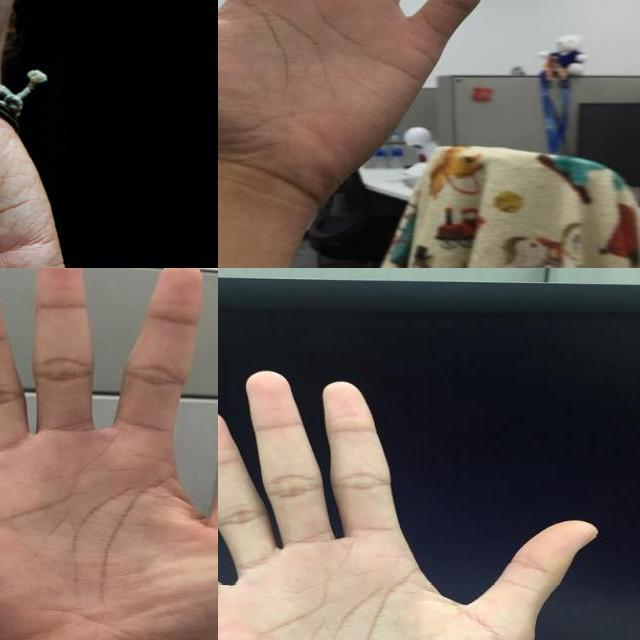hand: (218, 369, 602, 640), (0, 268, 218, 640), (218, 0, 517, 185), (0, 90, 106, 268)
